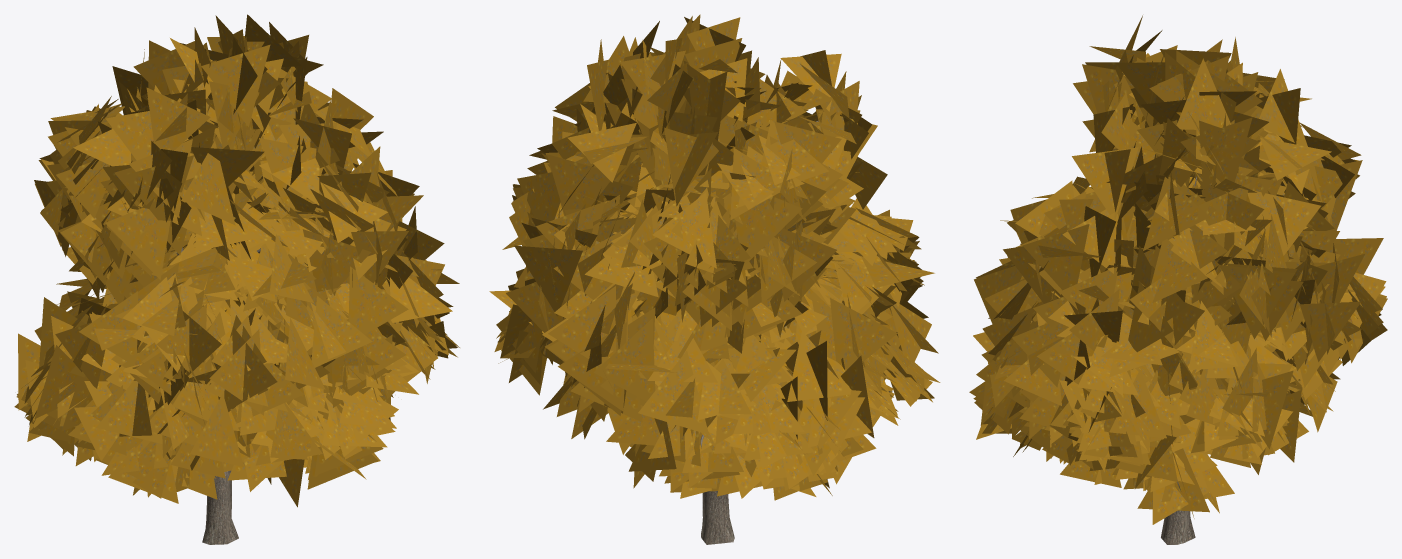
File: Robinia_Pseudoacacia_Autumn_Adult.glb
The picture shows the model from 3 angles, left to right: view 1: azimuth 30°, elevation 25°; view 2: azimuth 150°, elevation 25°; view 3: azimuth 270°, elevation 25°; orthographic projection. The views are drawn at different scales.
Parts seen in each view (by area): view 1: Robinia_Pseudoacacia_Autumn_Adult__LOD3; view 2: Robinia_Pseudoacacia_Autumn_Adult__LOD3; view 3: Robinia_Pseudoacacia_Autumn_Adult__LOD3.
Boxes of the visible parts, bbox=[...] form: Robinia_Pseudoacacia_Autumn_Adult__LOD3: bbox=[14, 14, 459, 544]; Robinia_Pseudoacacia_Autumn_Adult__LOD3: bbox=[489, 14, 940, 544]; Robinia_Pseudoacacia_Autumn_Adult__LOD3: bbox=[969, 15, 1387, 544].
Bounding box in the file's own units: 20.63 × 26.63 × 20.23.
Materials: 2 (2 with a texture image).
